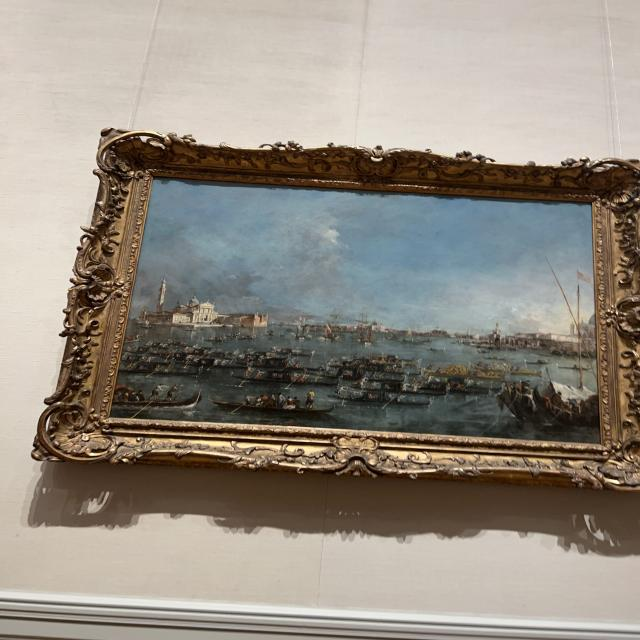ships: (119, 187, 593, 440)
